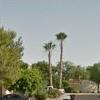Palm tree: (40, 21, 78, 97)
